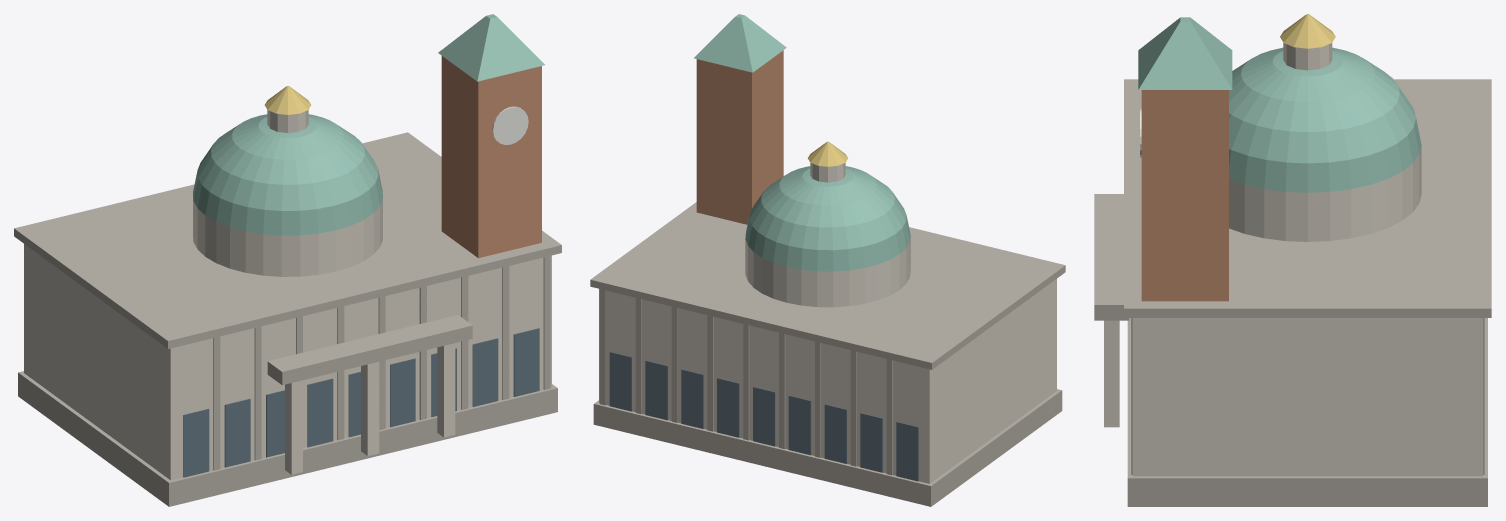
Rendered from ExchangeHall.glb.
3 renders of one model, left to right at view 1: azimuth 30°, elevation 25°; view 2: azimuth 150°, elevation 25°; view 3: azimuth 270°, elevation 25°, orthographic. The views are drawn at different scales.
Visible parts, largest first — view 1: Hall, Cornice.005, Dome, Tower.001, Plinth.001, Drum, Portico pediment, Tower roof, Portico column.001, Portico column.002, Arch, Arch.003 (+18 smaller); view 2: Hall, Cornice.005, Dome, Tower.001, Plinth.001, Drum, Tower roof, Arch.012, Arch.016, Arch.009, Arch.010, Arch.011 (+15 smaller); view 3: Hall, Cornice.005, Dome, Tower.001, Plinth.001, Drum, Tower roof, Portico pediment, Portico column.002, Lantern cap, Lantern.001.
Part boxes in pixels (box(x1,y1,x2,y2)): Hall: box(24, 244, 551, 480); Cornice.005: box(14, 132, 561, 348); Dome: box(193, 114, 382, 235); Tower.001: box(441, 56, 541, 258); Plinth.001: box(18, 371, 557, 506); Drum: box(193, 197, 382, 276); Portico pediment: box(267, 315, 472, 385); Tower roof: box(438, 14, 544, 81); Portico column.001: box(361, 361, 379, 455); Portico column.002: box(437, 343, 455, 437); Arch: box(183, 408, 209, 477); Arch.003: box(307, 378, 333, 447); Hall: box(599, 279, 1056, 483); Cornice.005: box(590, 202, 1065, 369); Dome: box(745, 166, 910, 271); Tower.001: box(696, 50, 783, 224); Plinth.001: box(593, 389, 1062, 506); Drum: box(745, 235, 910, 307); Tower roof: box(694, 14, 786, 72); Arch.012: box(788, 395, 811, 455); Arch.016: box(645, 360, 667, 420); Arch.009: box(896, 422, 918, 481); Arch.010: box(860, 413, 882, 472); Arch.011: box(824, 404, 846, 463); Hall: box(1133, 318, 1482, 476); Cornice.005: box(1124, 79, 1491, 317); Dome: box(1229, 47, 1421, 192); Tower.001: box(1141, 90, 1228, 301); Plinth.001: box(1127, 318, 1487, 506); Drum: box(1229, 145, 1421, 241); Tower roof: box(1138, 17, 1232, 89); Portico pediment: box(1094, 194, 1129, 320); Portico column.002: box(1104, 320, 1119, 427); Lantern cap: box(1280, 14, 1335, 48); Lantern.001: box(1283, 43, 1332, 70).
Size of the model in its own units: 31 by 29.2 by 22.7.
